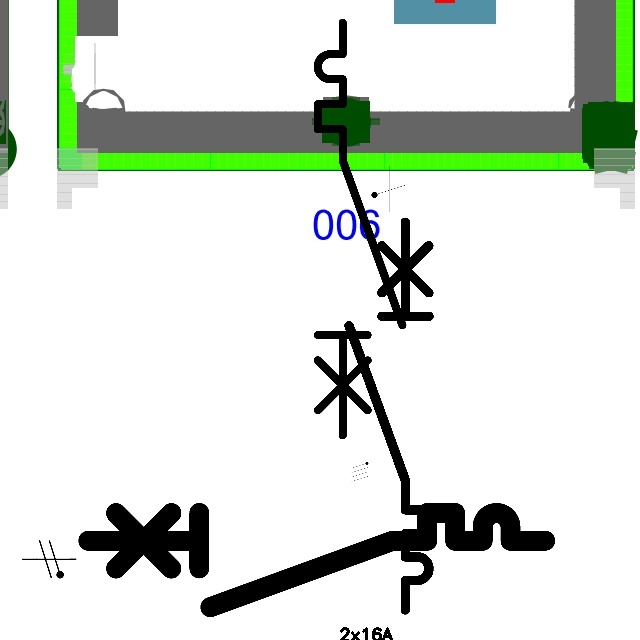interruptor_termomagnetico: (76, 501, 557, 618), (307, 12, 413, 446), (339, 212, 439, 619)
